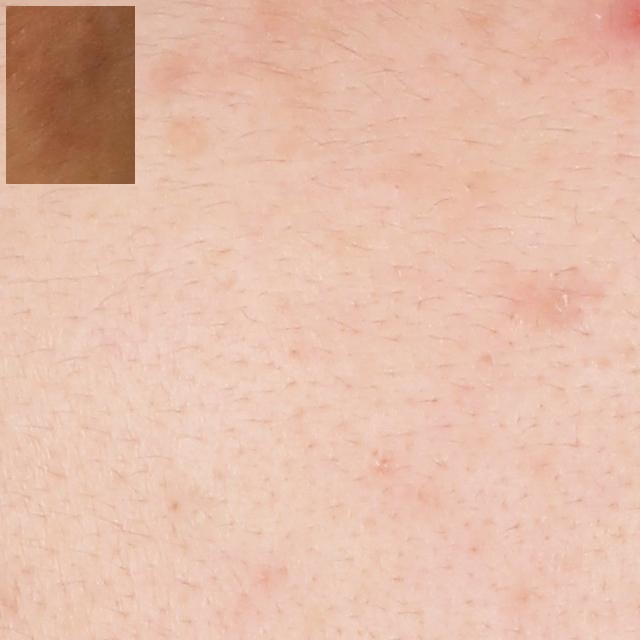melasma: (14, 14, 127, 176)
